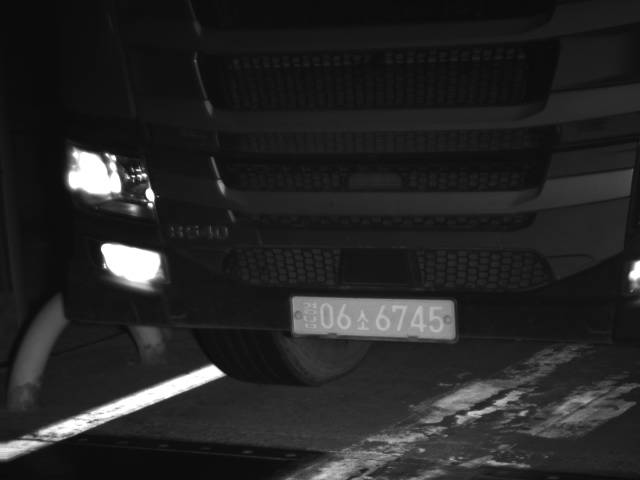car: (47, 1, 639, 386)
plate: (290, 296, 456, 337)
